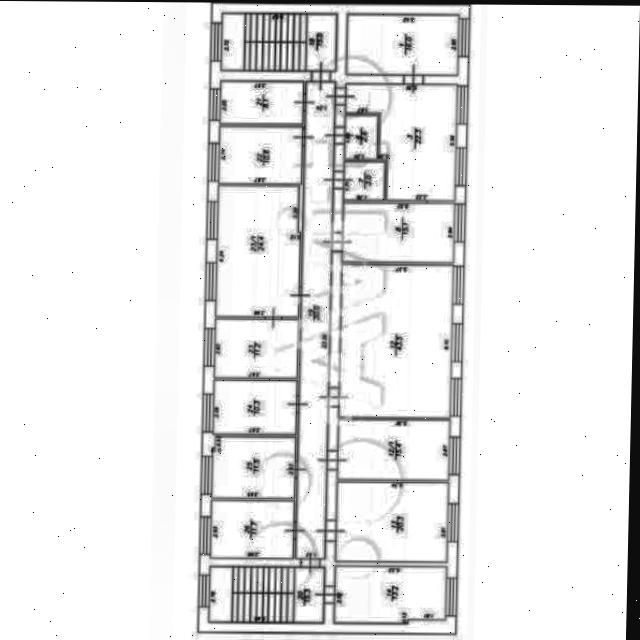room: (340, 263, 453, 419), (297, 82, 333, 558), (346, 83, 457, 199), (215, 183, 302, 318), (337, 482, 448, 560), (221, 13, 337, 71), (343, 202, 454, 262), (334, 565, 447, 623), (338, 420, 449, 479), (347, 15, 458, 74), (209, 567, 323, 622), (212, 437, 295, 497), (219, 126, 303, 183), (215, 319, 298, 376), (211, 500, 293, 557), (214, 380, 297, 434), (220, 81, 304, 121), (344, 162, 384, 199), (345, 115, 378, 159)
